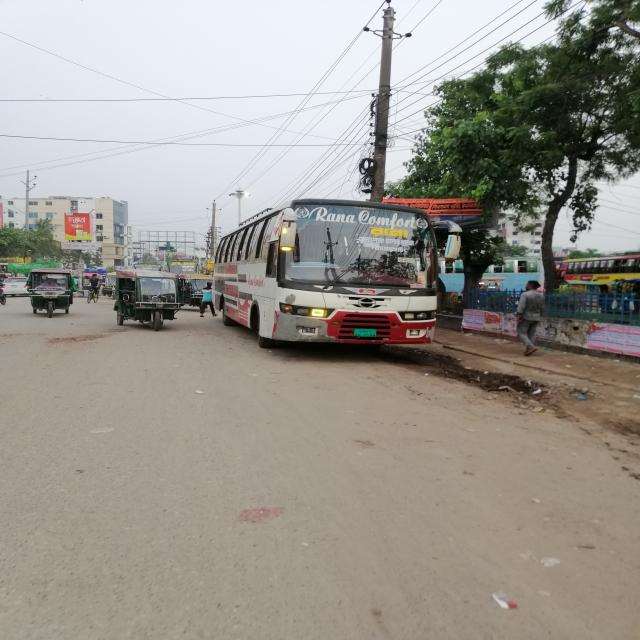Bus: (214, 201, 468, 348)
